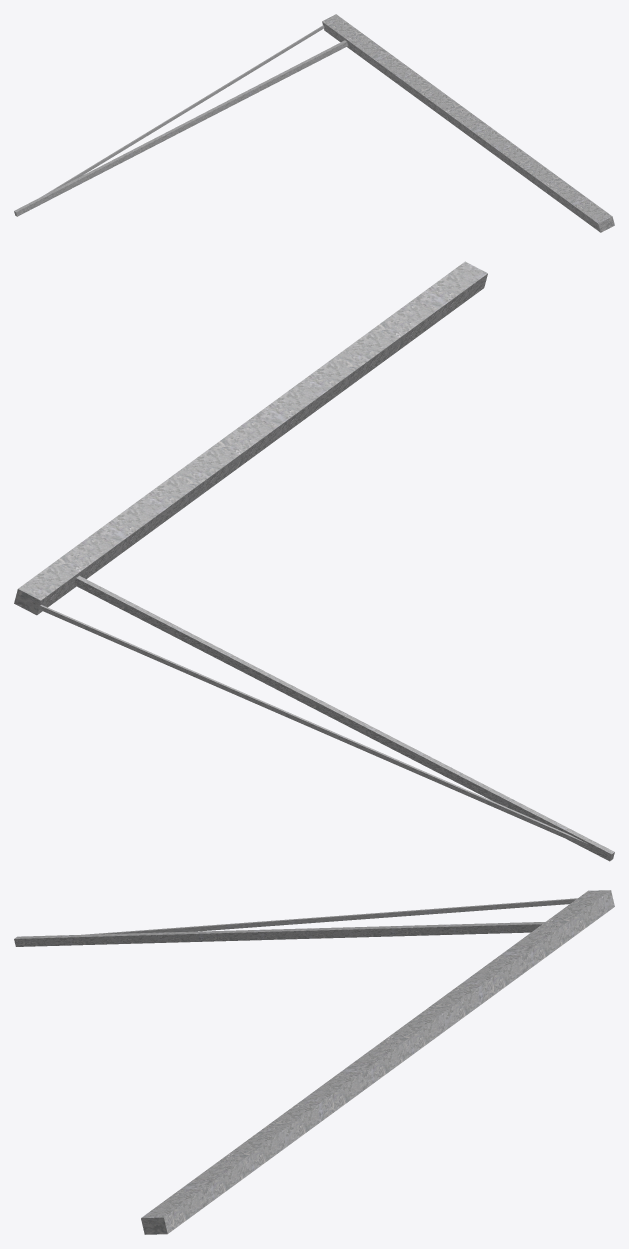
Rendered from _0AD_tower_rolex_SUB1.obj.
The picture shows the model from 3 angles, top to bottom: view 1: azimuth 30°, elevation 25°; view 2: azimuth 150°, elevation 25°; view 3: azimuth 330°, elevation 25°; orthographic projection. The views are drawn at different scales.
Parts seen in each view (by area): view 1: _0AD_tower_rolex_SUB1_Scene.020; view 2: _0AD_tower_rolex_SUB1_Scene.020; view 3: _0AD_tower_rolex_SUB1_Scene.020.
Part boxes in pixels (box(x1,y1,x2,y2)): _0AD_tower_rolex_SUB1_Scene.020: box(14, 14, 614, 232); _0AD_tower_rolex_SUB1_Scene.020: box(14, 261, 614, 861); _0AD_tower_rolex_SUB1_Scene.020: box(14, 890, 614, 1234).
Bounding box in the file's own units: 498 × 139 × 687.
